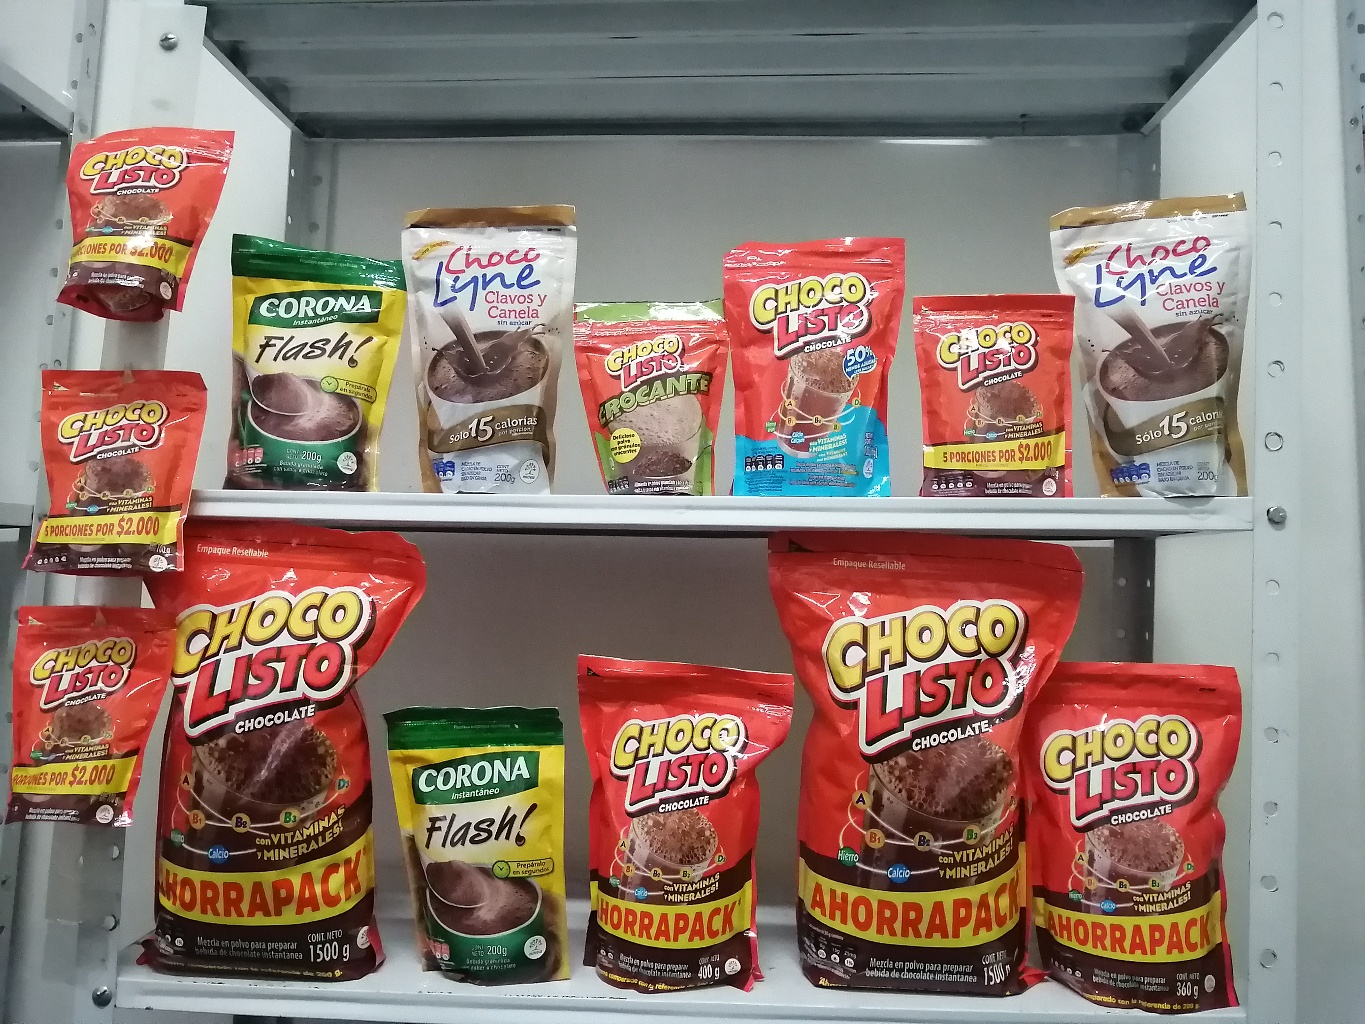COL0170102DYP10000: (565, 293, 721, 503)
COL0170103DYP1,500: (771, 525, 1085, 1002)
COL0170103DYP10000: (913, 286, 1075, 499)
COL0170103DYP36000: (1029, 643, 1259, 1013)
COL0170103DYP40000: (569, 649, 807, 1007)
COL0170104DYP20000: (719, 223, 911, 501)
